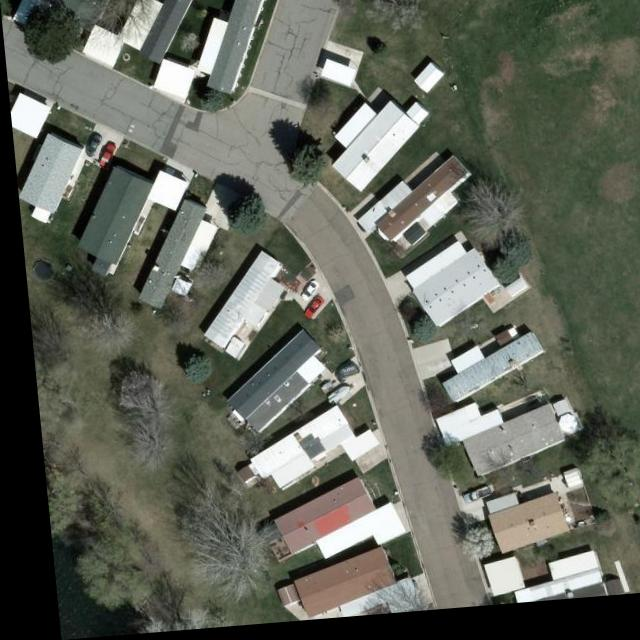vehicle: (295, 299, 320, 324), (327, 367, 354, 390), (95, 145, 117, 171), (291, 285, 317, 306), (451, 494, 483, 510), (83, 136, 100, 158)
